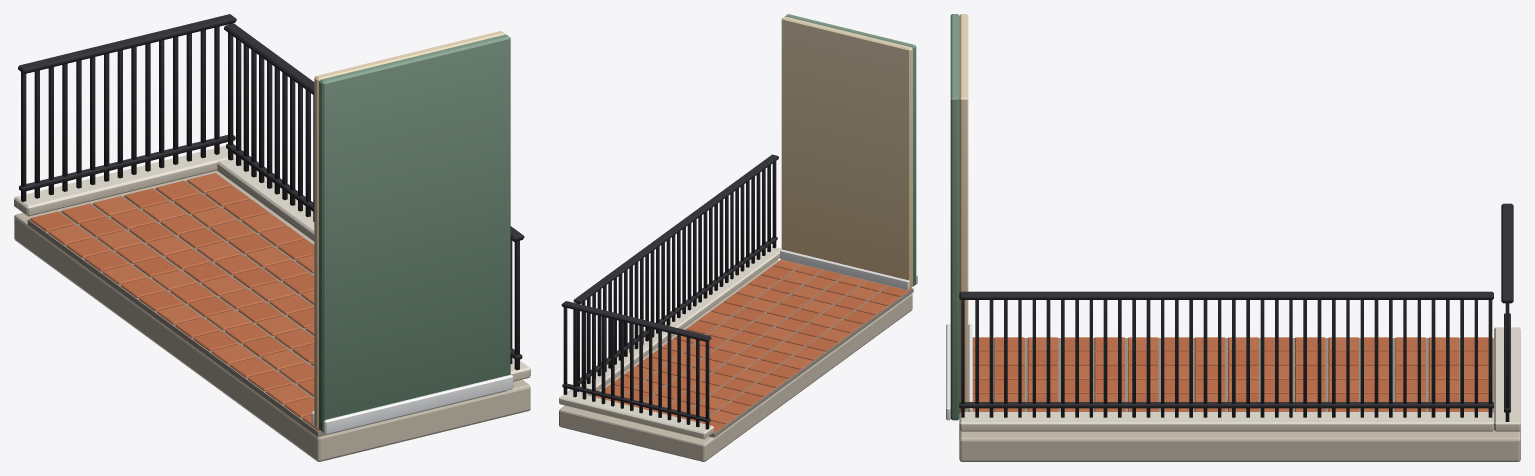
File: house-balcony.glb
The picture shows the model from 3 angles, left to right: view 1: azimuth 30°, elevation 25°; view 2: azimuth 150°, elevation 25°; view 3: azimuth 270°, elevation 25°; orthographic projection. The views are drawn at different scales.
Parts seen in each view (by area): view 1: wall-balcony-study, floor-balcony, railing-balcony-street, railing-balcony-east; view 2: wall-balcony-study, floor-balcony, railing-balcony-east, railing-balcony-street; view 3: floor-balcony, railing-balcony-east, wall-balcony-study, railing-balcony-street.
Part boxes in pixels (x1=…): wall-balcony-study: x1=311, y1=31, x2=513, y2=434; floor-balcony: x1=14, y1=170, x2=530, y2=461; railing-balcony-street: x1=14, y1=14, x2=236, y2=216; railing-balcony-east: x1=217, y1=23, x2=530, y2=381; wall-balcony-study: x1=780, y1=14, x2=917, y2=290; floor-balcony: x1=559, y1=259, x2=913, y2=461; railing-balcony-east: x1=569, y1=154, x2=781, y2=396; railing-balcony-street: x1=559, y1=301, x2=713, y2=439; floor-balcony: x1=959, y1=337, x2=1520, y2=461; railing-balcony-east: x1=959, y1=291, x2=1493, y2=431; wall-balcony-study: x1=946, y1=14, x2=972, y2=420; railing-balcony-street: x1=1494, y1=203, x2=1520, y2=431.
Size of the model in its own units: 2.55 by 4.38 by 6.45.
Materials: 1 (1 with a texture image).
